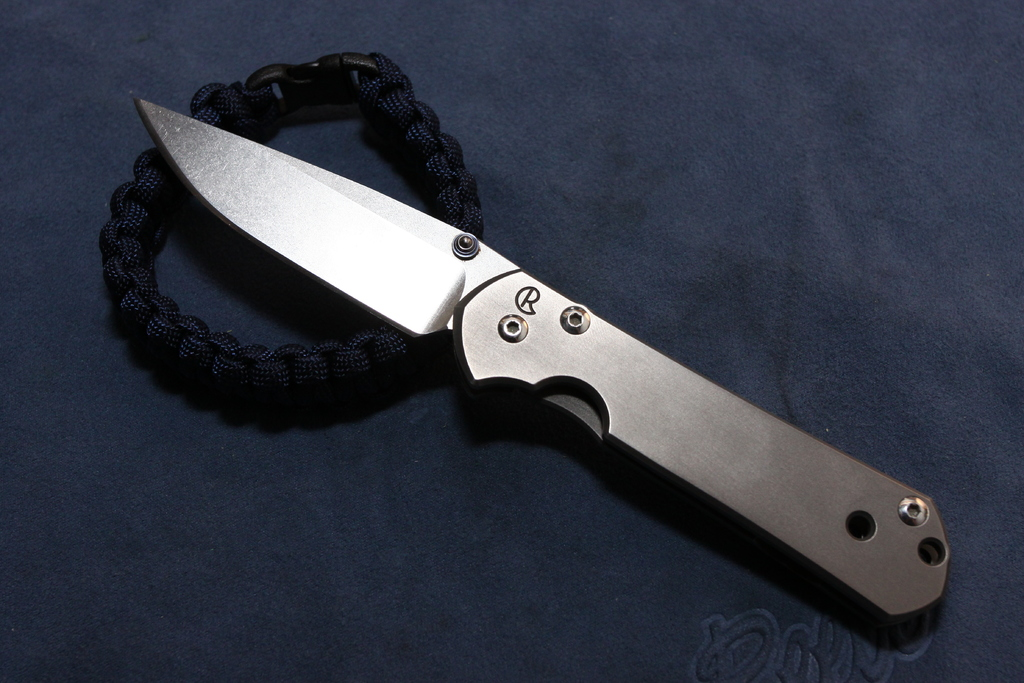knife: (129, 90, 953, 635)
